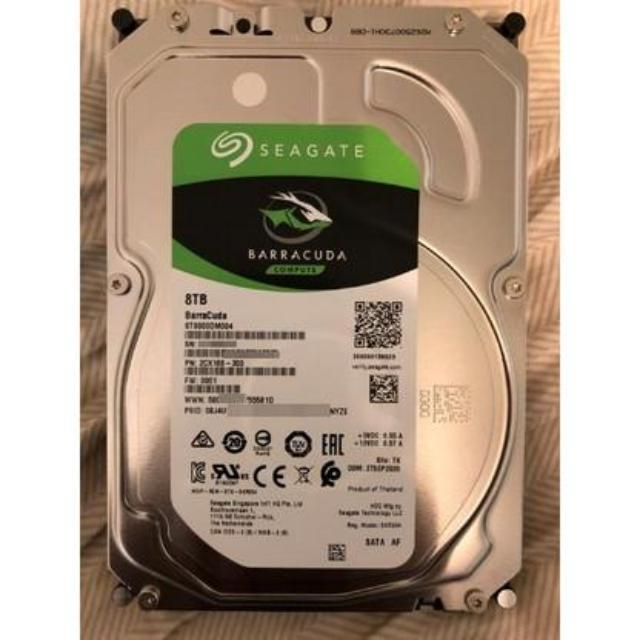DISK: (104, 10, 530, 612)
